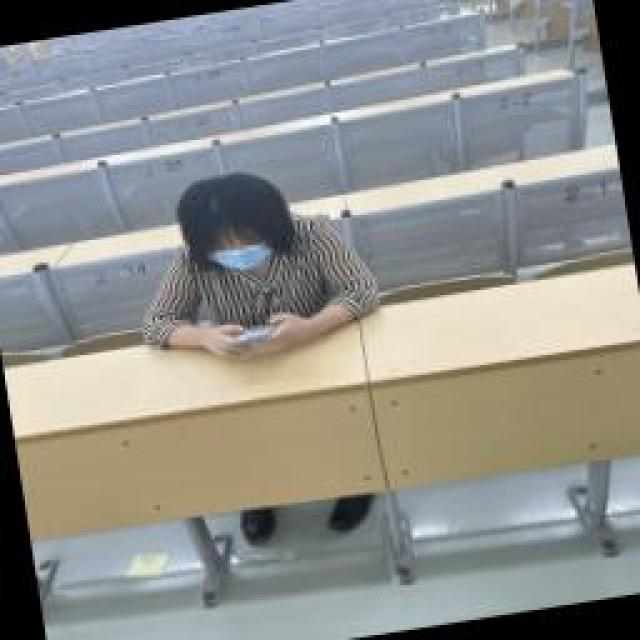phone: (120, 155, 385, 370)
